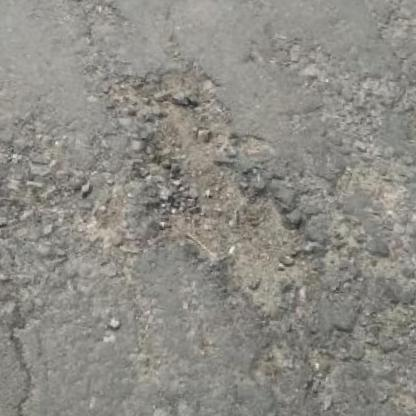pothole: (69, 44, 348, 317)
